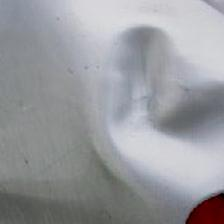bumper_dent: (83, 11, 223, 222)
